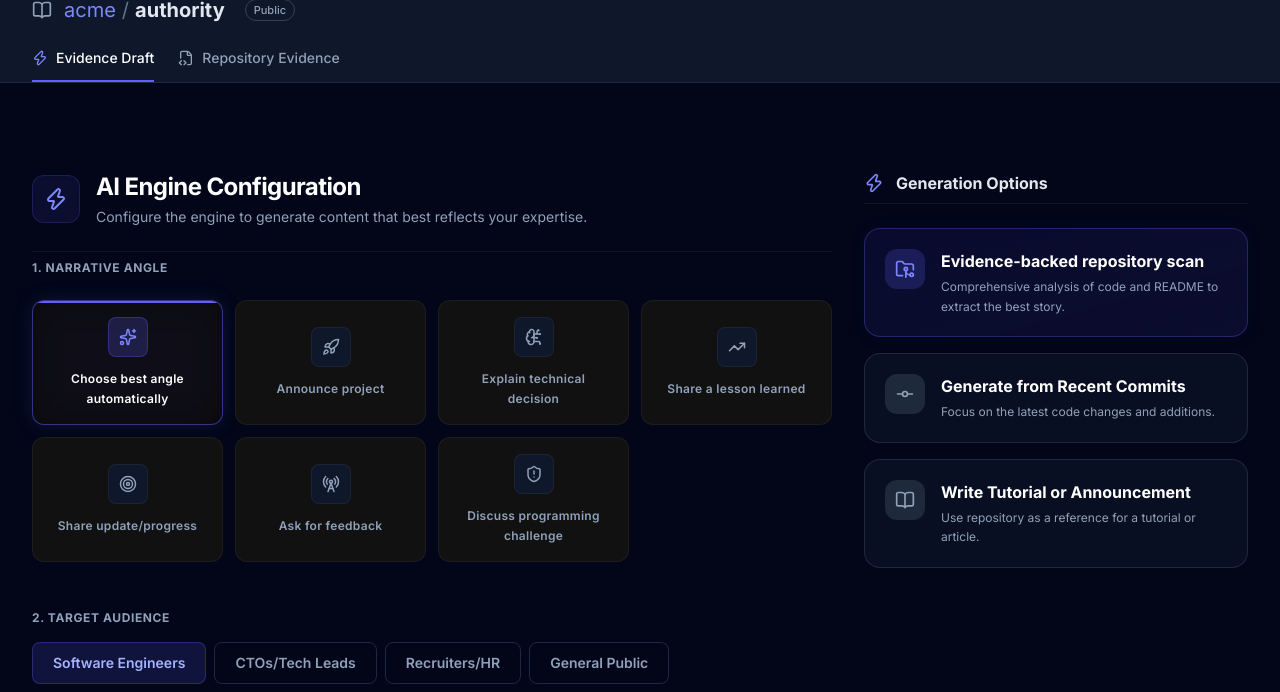
it: RepoDetails › shows generation failures inline without relying on a browser alert
This screenshot has width=1280, height=692.
What coordinates should you click on to do the following:
click the button "Evidence-backed repository scan"
I would click on:
 (1056, 282)
Its box is [864,228,1248,337].
(page scrolled)
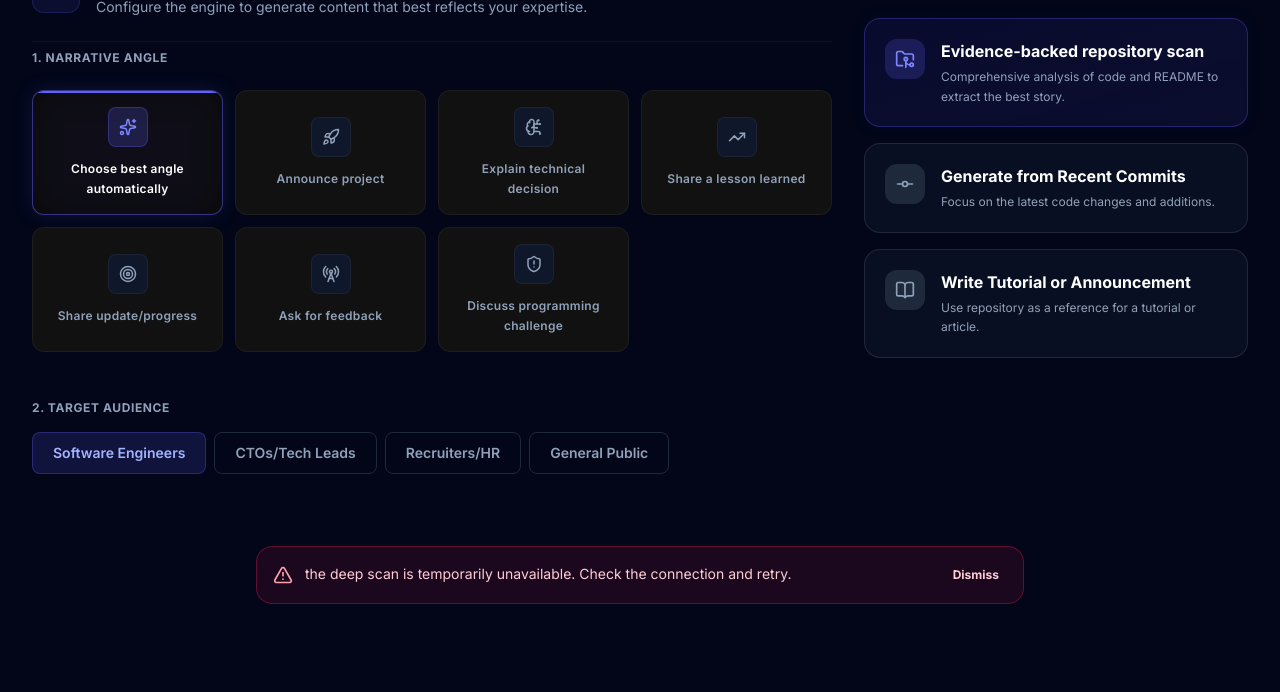
Result: the message shows "deep scan is temporarily unavailable" at [305,565,791,582]
